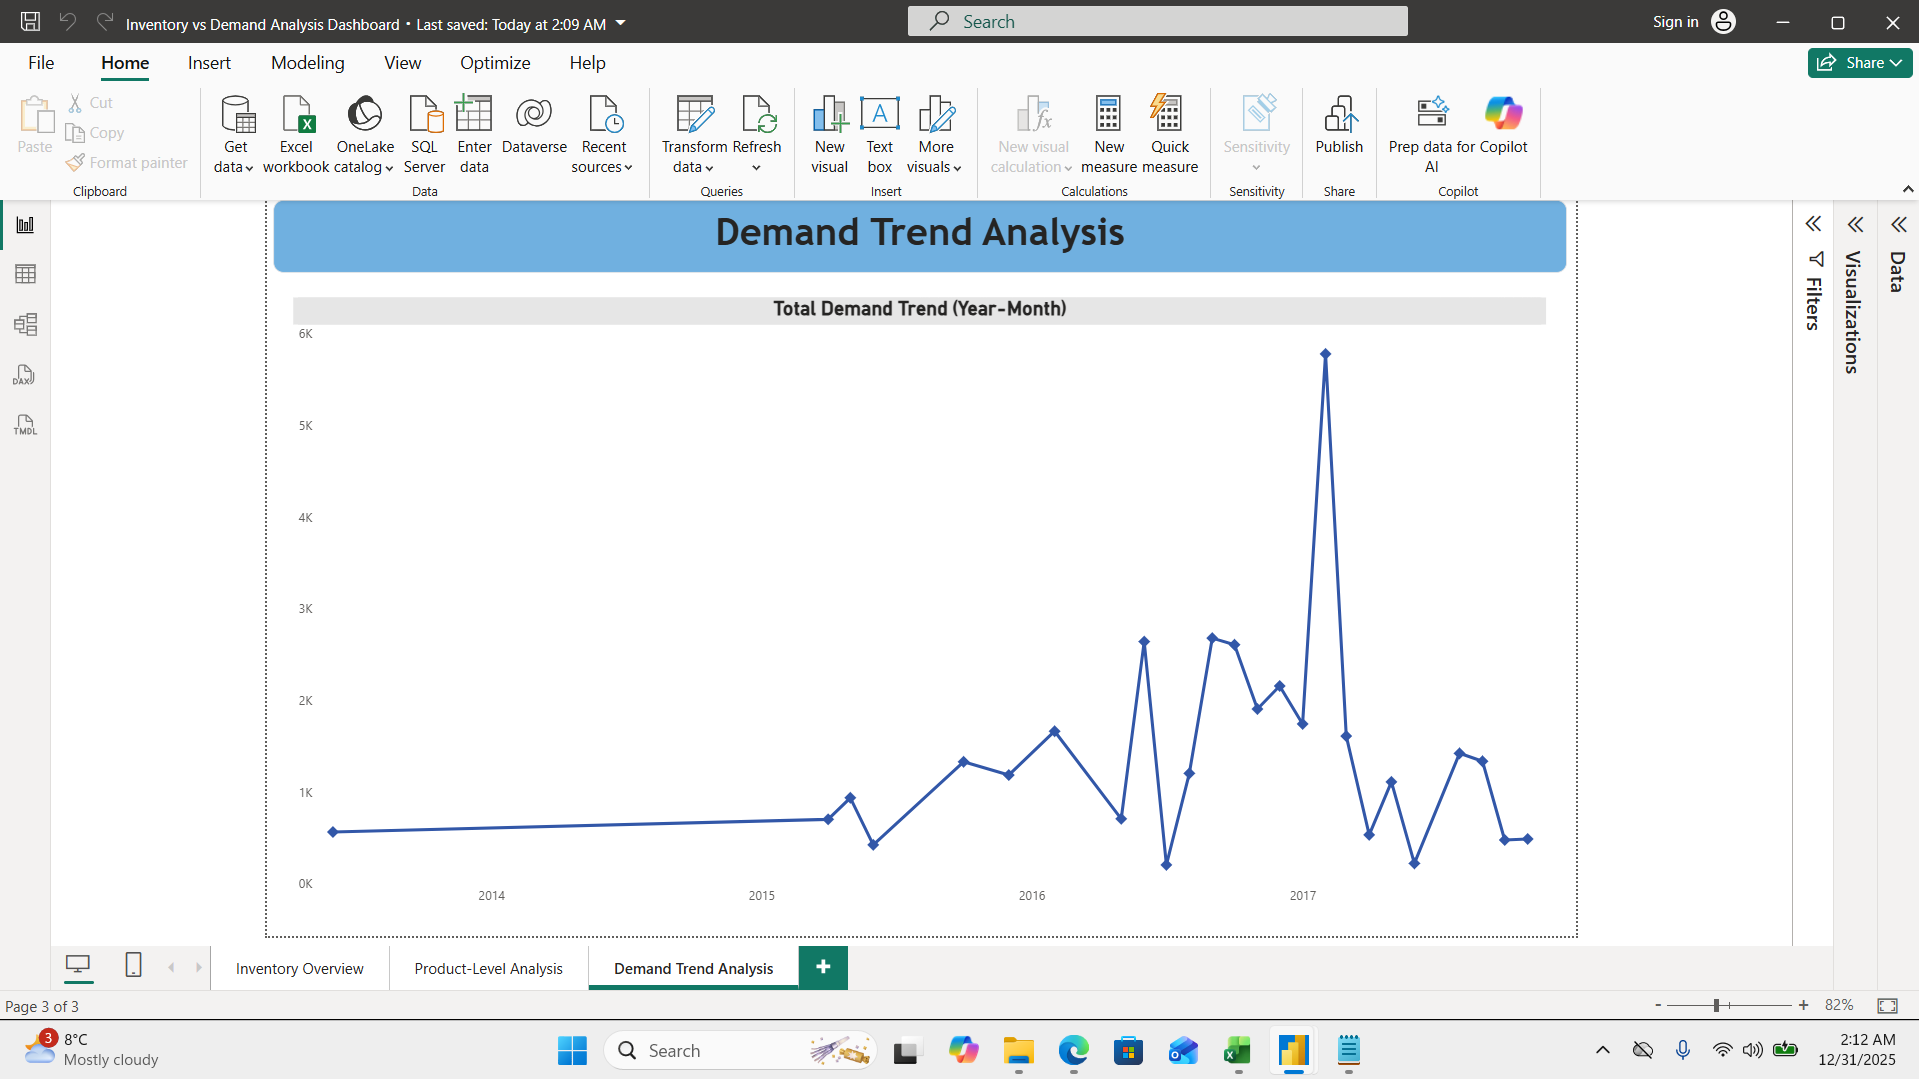

This screenshot's page, from the dashboard's own definition file:
{"tool":"powerbi","page":{"name":"Demand Trend Analysis","canvas":[1280,720],"ordinal":2},"visuals":[{"type":"lineChart","title":"Total Demand Trend (Year-Month)","fields":{"Y":["MeasureTable.Total Demand"],"Category":["DateDim.Date.Variation.Date Hierarchy.Year","DateDim.Date.Variation.Date Hierarchy.Month"]},"box":[25.9,95.5,1225.8,604],"z":0},{"type":"textbox","box":[6.1,0,1265.8,70.9],"z":1000}]}

Visuals, with their boxes on the page's 1280x720 design canvas (x1, y1, x2, y2). These are canvas units, not pixel positions in the 1919x1079 screenshot, which may show the page scaled, cropped or inside an application window:
"Total Demand Trend (Year-Month)" lineChart: bbox=(26, 96, 1252, 700)
textbox: bbox=(6, 0, 1272, 71)
